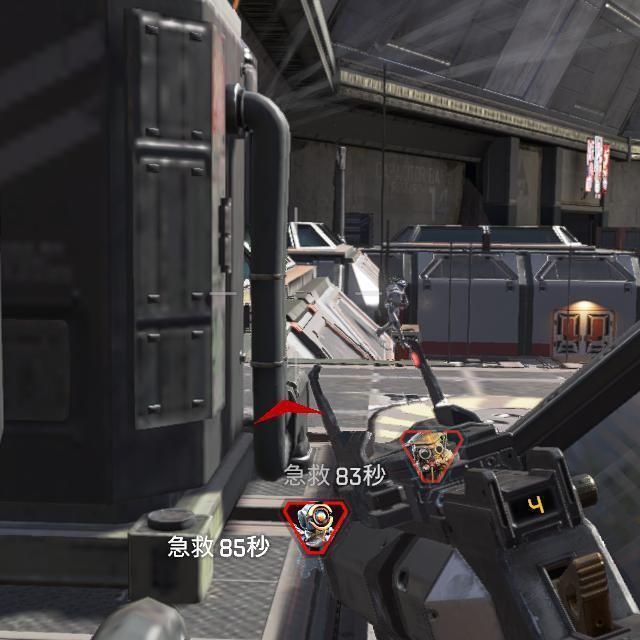avatar: (375, 278, 409, 349)
